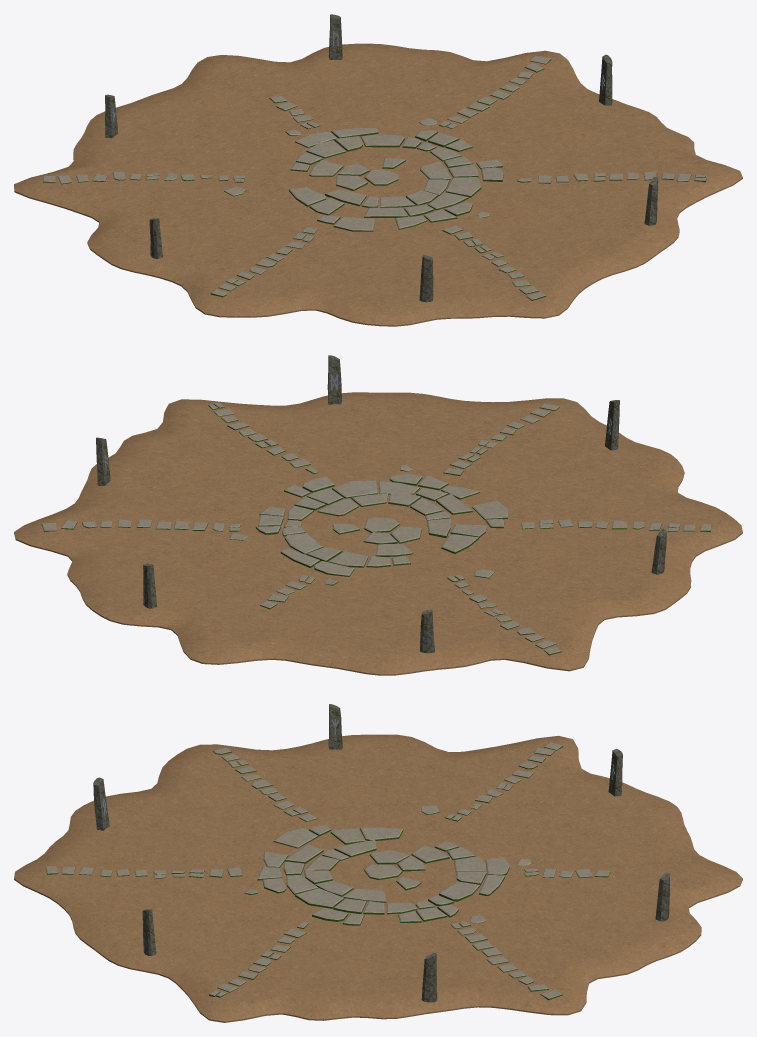
The model's file is plaza_v1.glb.
3 renders of one model, top to bottom at view 1: azimuth 30°, elevation 25°; view 2: azimuth 150°, elevation 25°; view 3: azimuth 270°, elevation 25°, orthographic. The views are drawn at different scales.
Visible parts, largest first — view 1: Circle, Clay16, Clay27, Clay22, Clay25, Clay24, Clay30, Clay19, Clay31, Clay23, Clay20, Clay33 (+35 smaller); view 2: Circle, Clay16, Clay15, Clay18, Clay10, Clay04, Clay12, Clay19, Clay07, Clay13, Clay06, Clay08 (+36 smaller); view 3: Circle, Clay34, Clay06, Clay07, Clay35, Clay36, Clay03, Clay28, Clay05, Clay09, Clay16, Clay01 (+37 smaller).
Part boxes in pixels (x1,y1,x2,y2): Circle: (224,117,503,231); Clay16: (14,178,365,208); Clay27: (387,184,558,318); Clay22: (205,184,374,317); Clay25: (381,185,436,326); Clay24: (327,185,380,326); Clay30: (393,182,659,271); Clay19: (96,181,369,272); Clay31: (395,181,679,252); Clay23: (268,185,377,316); Clay20: (135,182,370,285); Clay33: (398,178,733,207); Circle: (230,465,507,585); Clay16: (389,531,592,671); Clay15: (387,532,569,671); Clay18: (393,529,672,617); Clay10: (202,533,370,664); Clay04: (14,526,364,556); Clay12: (325,544,380,675); Clay19: (394,528,691,604); Clay07: (86,530,366,624); Clay13: (381,532,437,675); Clay06: (70,528,364,604); Clay08: (123,531,368,635); Circle: (244,805,531,925); Clay34: (200,879,375,1022); Clay06: (397,876,680,969); Clay07: (399,875,701,952); Clay35: (265,879,379,1020); Clay36: (324,879,382,1020); Clay03: (388,878,567,1015); Clay28: (14,872,365,903); Clay05: (394,877,638,983); Clay09: (401,872,742,902); Clay16: (390,735,572,865); Clay01: (382,879,437,1019).
Size of the model in its own units: 109 by 9.83 by 117.
Materials: 4 (3 with a texture image).
